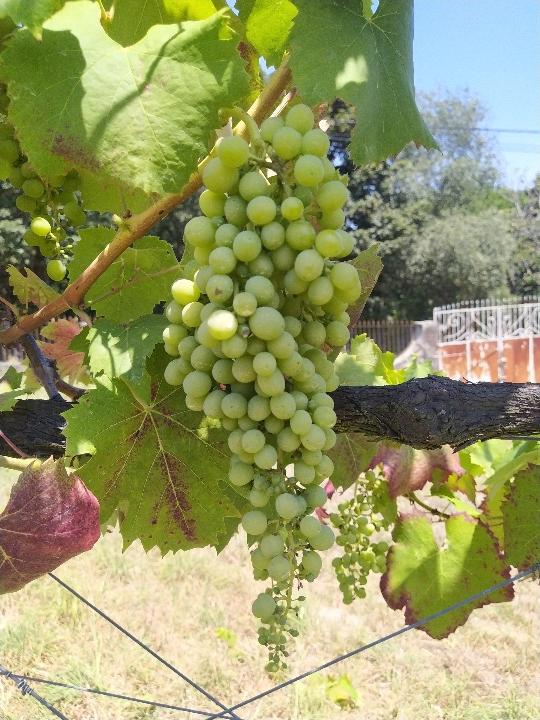grape: (162, 101, 363, 678), (326, 468, 391, 610)
